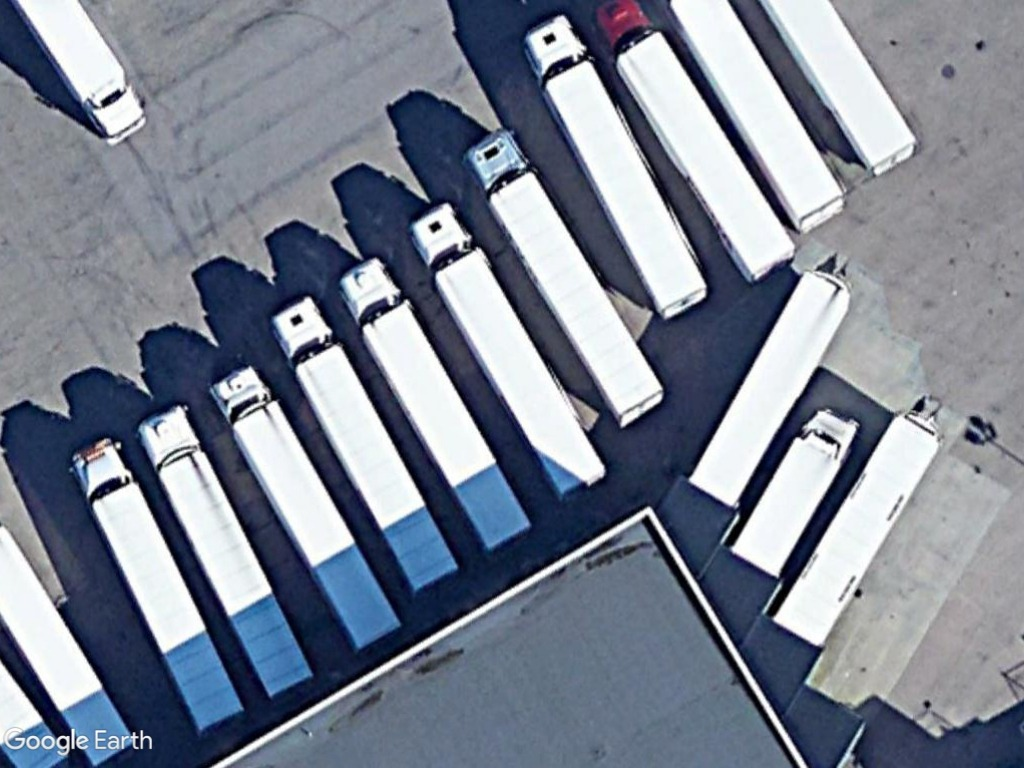longvehicle: (409, 200, 620, 511), (334, 242, 539, 556), (462, 124, 671, 431), (516, 8, 714, 326), (267, 285, 467, 597), (71, 424, 259, 738), (209, 356, 404, 654), (141, 398, 326, 702)
truck: (723, 406, 856, 580)
